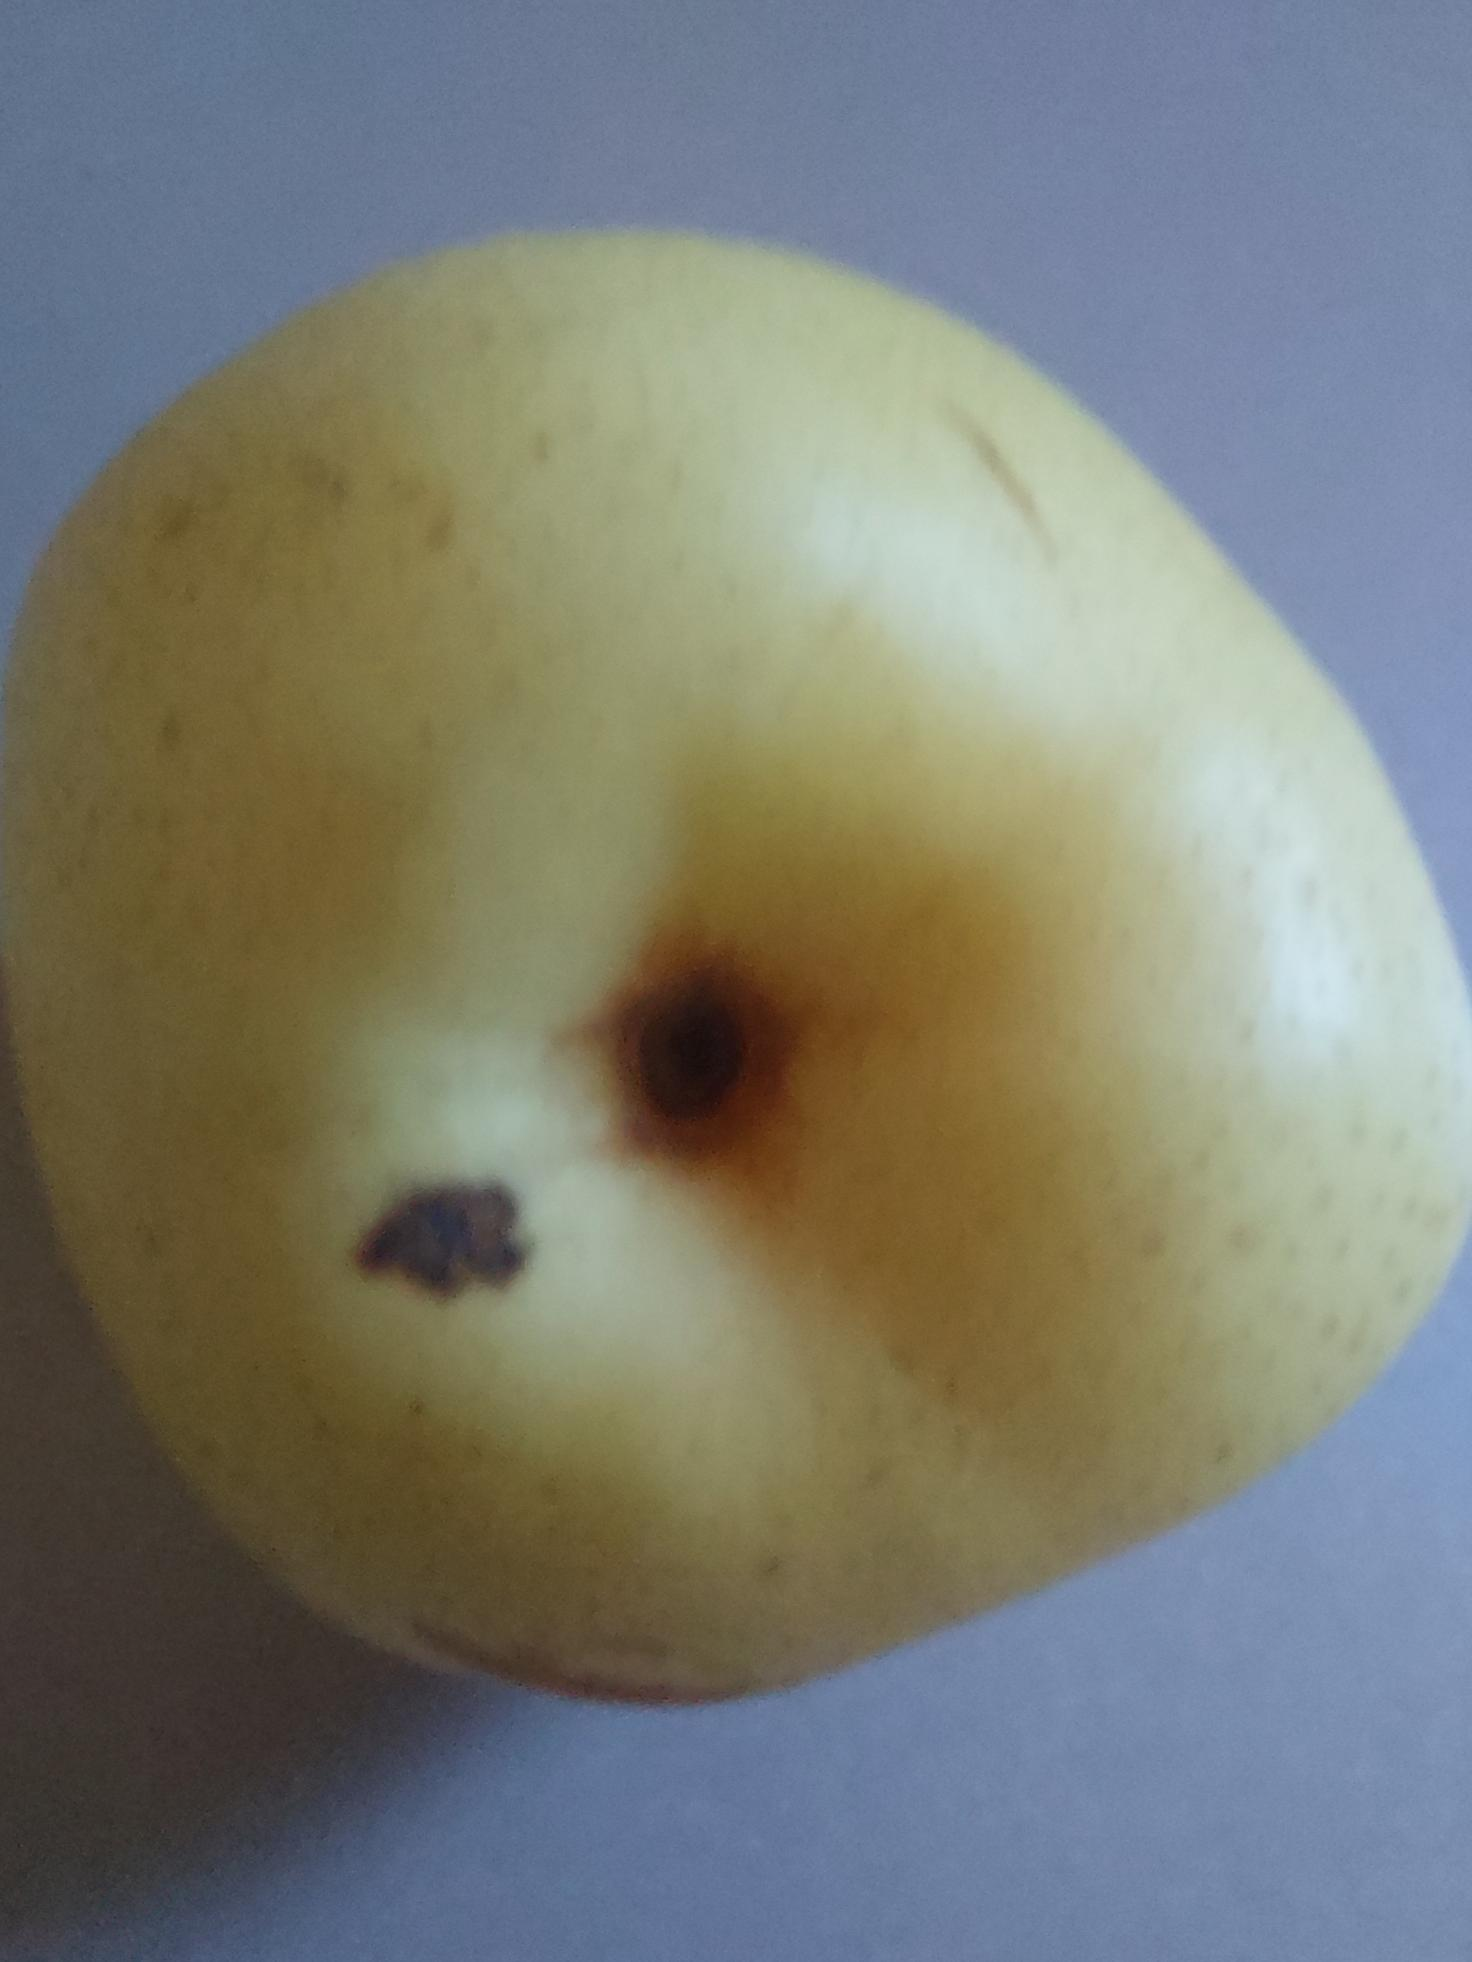Good Pear: (0, 190, 1472, 1766)
